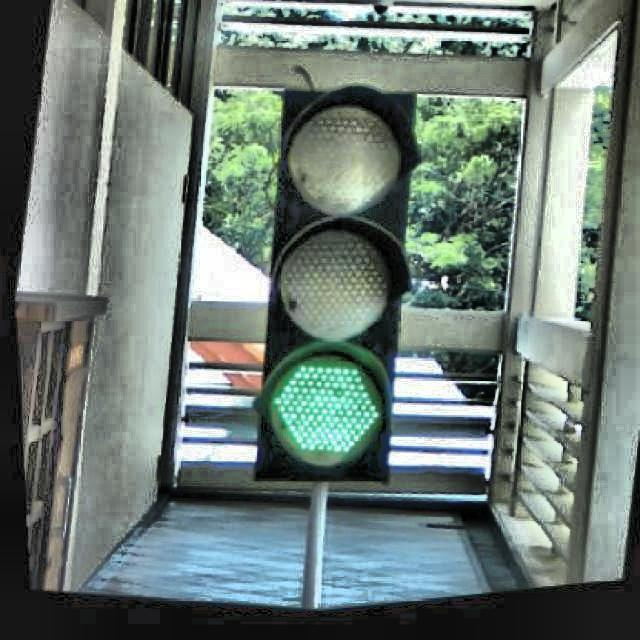green: (263, 90, 407, 484)
